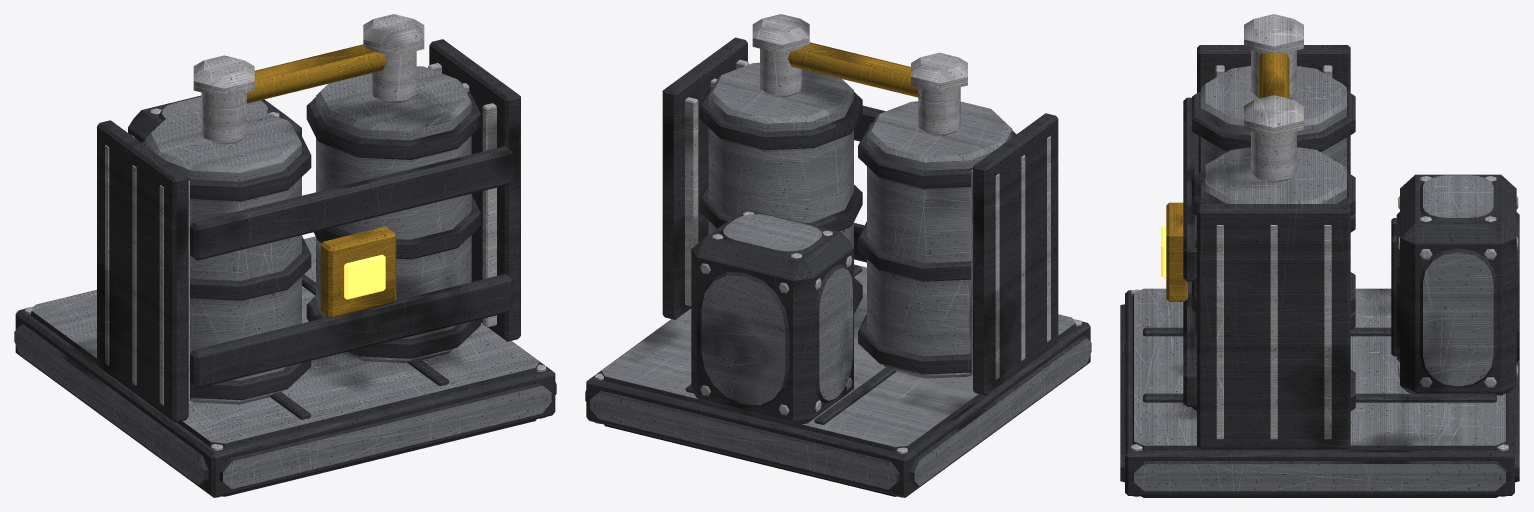
The model's file is R4X_Battery.glb.
3 views of the same model, side by side, from view 1: azimuth 30°, elevation 25°; view 2: azimuth 150°, elevation 25°; view 3: azimuth 270°, elevation 25° (orthographic). The views are drawn at different scales.
Parts seen in each view (by area): view 1: R4X_Battery_Body; view 2: R4X_Battery_Body; view 3: R4X_Battery_Body.
Boxes of the visible parts, left/top/right/bottom form: R4X_Battery_Body: left=14, top=14, right=556, bottom=497; R4X_Battery_Body: left=585, top=14, right=1091, bottom=497; R4X_Battery_Body: left=1120, top=14, right=1519, bottom=497.
Size of the model in its own units: 0.52 by 0.51 by 0.52.
5 materials, 4 textured.
